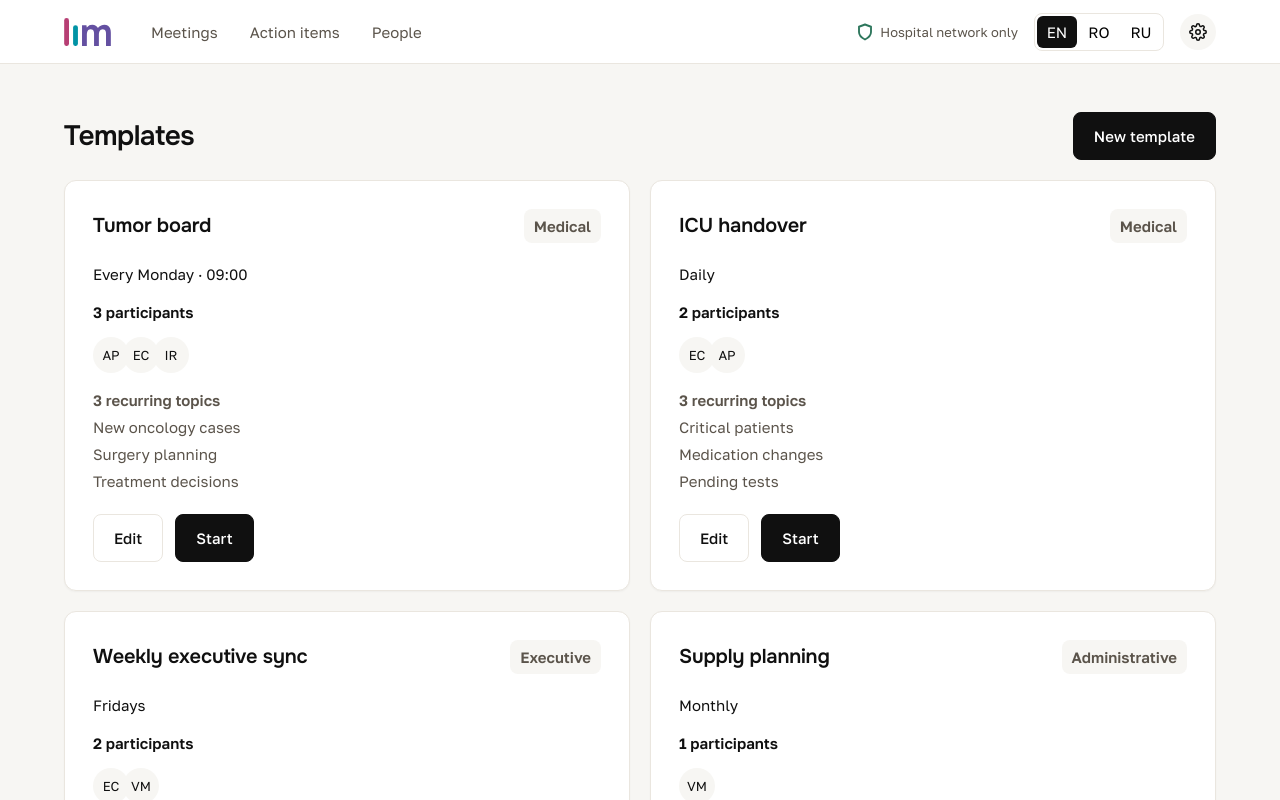
Test case: application flows › renders real templates and prefills New Meeting without starting recording
Expected: the heading "Templates" is shown, [64,119,194,153]
Expected: the heading "Tumor board" is shown, [93,213,211,239]
Click the link "Start" below "Treatment decisions". click: click(215, 538)
box: [175,514,254,562]
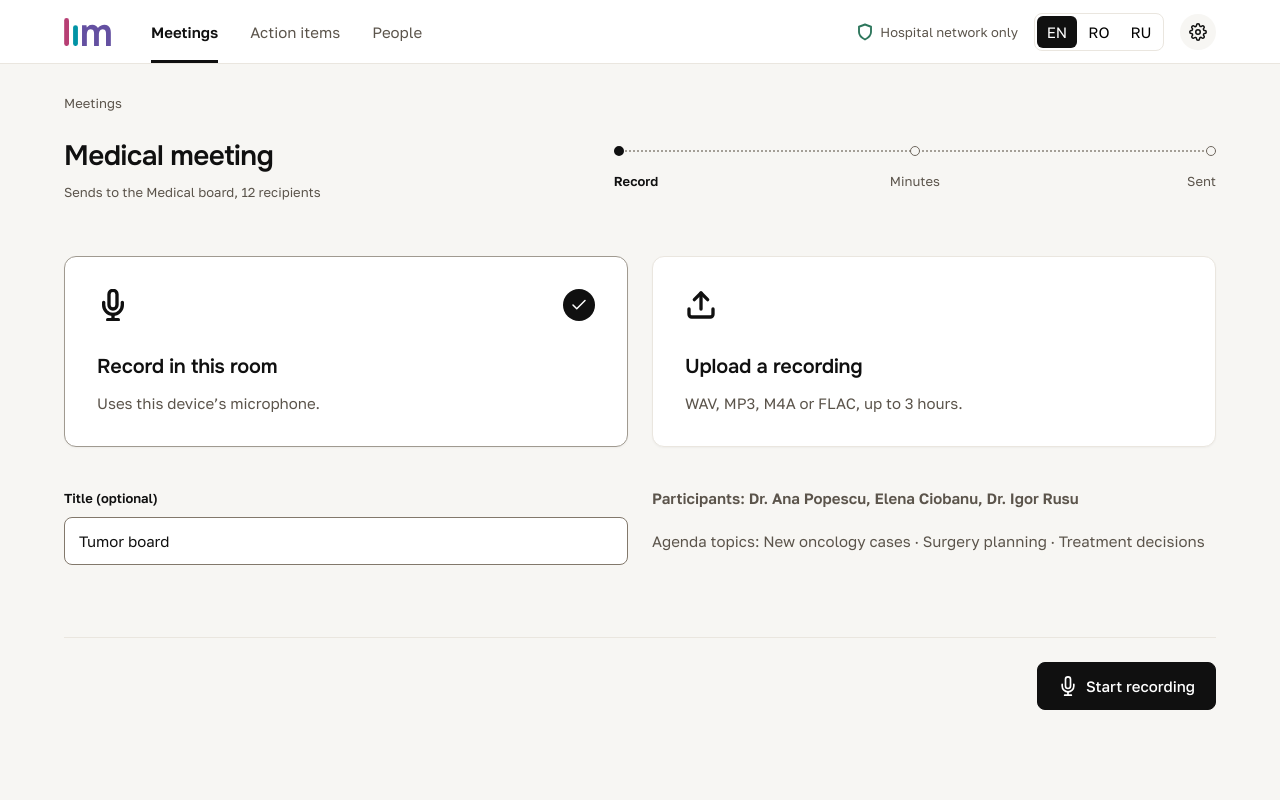
Now the field showing "Tumor board" is shown, box [64,517,628,565]
Now the text "Participants: Dr. Ana Popescu, Elena Ciobanu, Dr. Igor Rusu" is shown, box [652,489,1079,507]
Now the text "New oncology cases" is shown, box [763,532,1205,550]
